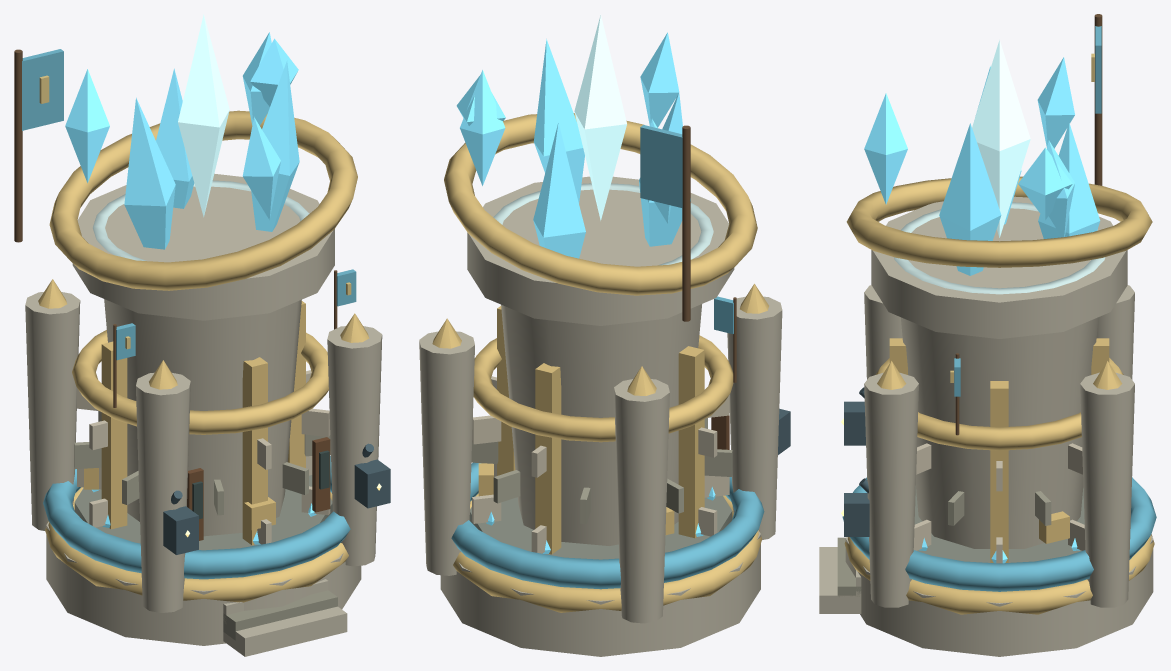
The model's file is tower-frost-3-0.glb.
3 renders of one model, left to right at view 1: azimuth 30°, elevation 25°; view 2: azimuth 150°, elevation 25°; view 3: azimuth 270°, elevation 25°, orthographic. The views are drawn at different scales.
Parts seen in each view (by area): view 1: Foundation, Turret, frost-L3-0; view 2: Foundation, Turret, frost-L3-0; view 3: Foundation, Turret, frost-L3-0.
Boxes of the visible parts, left/top/right/bottom form: Foundation: left=14, top=49, right=390, bottom=656; Turret: left=49, top=14, right=357, bottom=320; frost-L3-0: left=46, top=475, right=361, bottom=645; Foundation: left=419, top=125, right=790, bottom=623; Turret: left=444, top=14, right=757, bottom=325; frost-L3-0: left=440, top=495, right=760, bottom=656; Foundation: left=819, top=14, right=1156, bottom=614; Turret: left=846, top=40, right=1152, bottom=338; frost-L3-0: left=845, top=486, right=1153, bottom=656.
Size of the model in its own units: 1.72 by 3.33 by 1.84.
